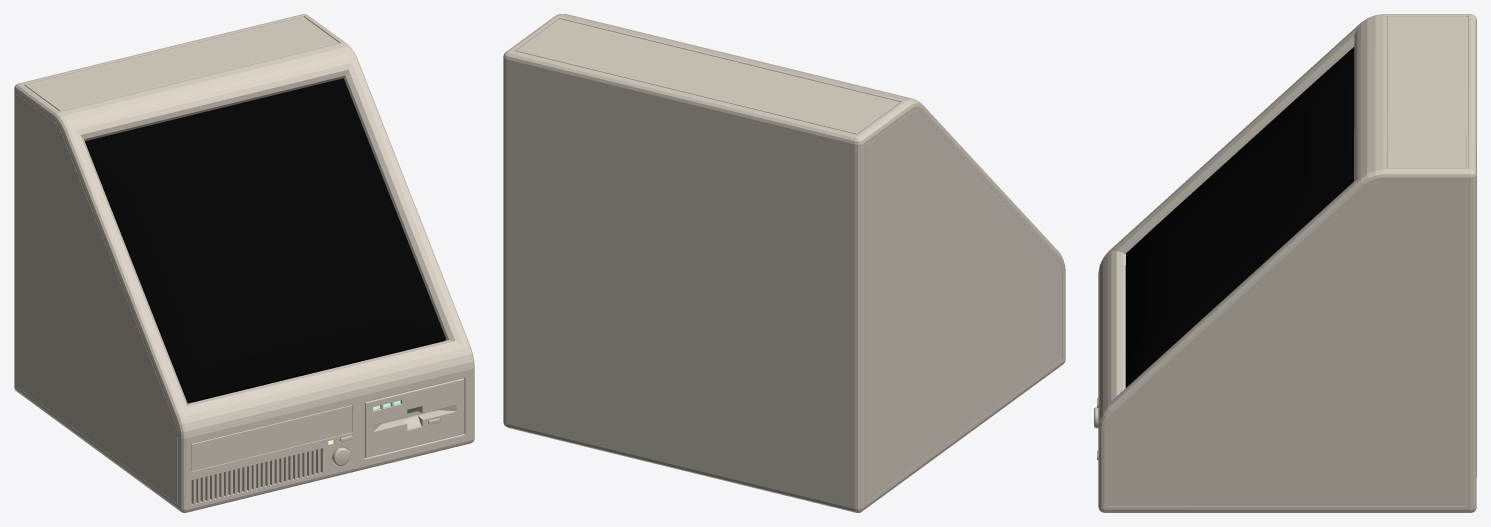
3 renders of one model, left to right at view 1: azimuth 30°, elevation 25°; view 2: azimuth 150°, elevation 25°; view 3: azimuth 270°, elevation 25°, orthographic. The views are drawn at different scales.
Visible parts, largest first — view 1: Object_6, Object_4; view 2: Object_6; view 3: Object_6, Object_4.
Part boxes in pixels (x1,y1,x2,y2): Object_6: [14, 14, 474, 512]; Object_4: [85, 78, 445, 403]; Object_6: [503, 14, 1065, 512]; Object_6: [1094, 14, 1476, 512]; Object_4: [1125, 47, 1354, 387].
Bounding box in the file's own units: 77.63 × 77.61 × 78.52.
